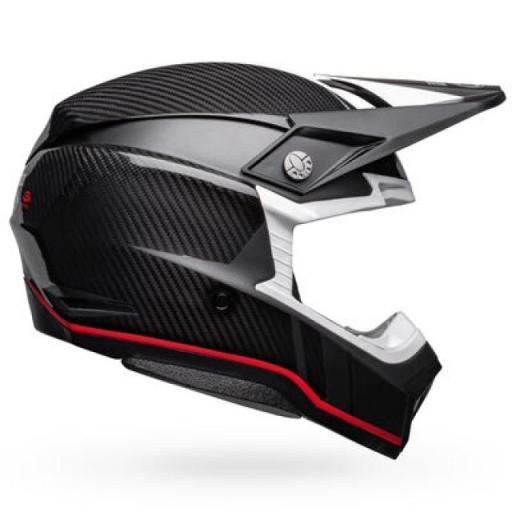Helmet: (12, 64, 504, 457)
